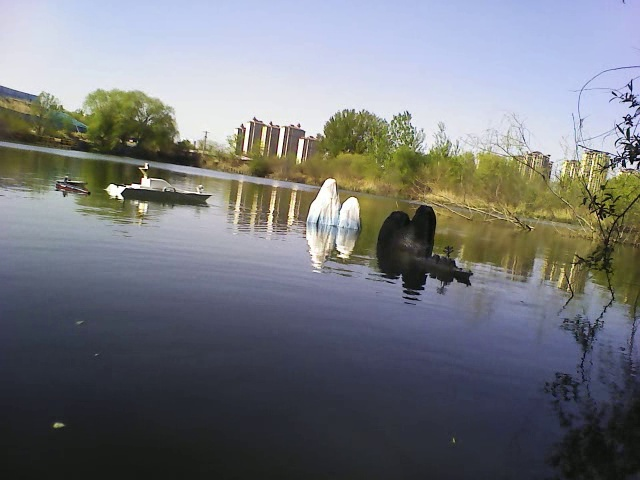boat: (102, 161, 213, 208)
iceberg: (302, 171, 365, 232)
rock: (377, 197, 439, 255)
submarine: (54, 176, 93, 195)
warship: (415, 244, 479, 283)
